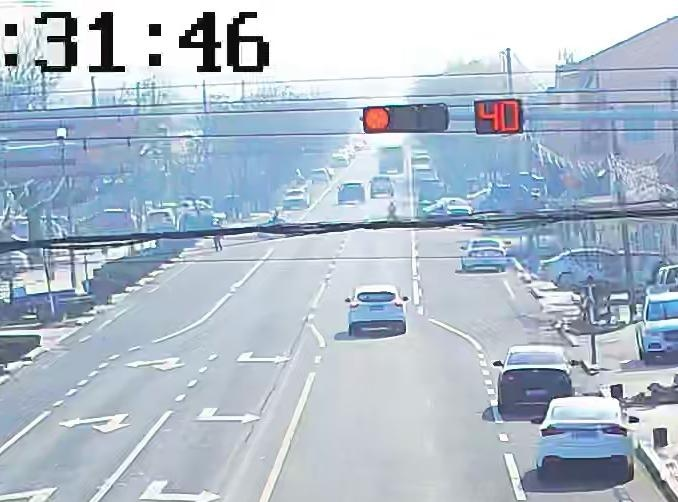red: (358, 105, 389, 136)
redtime: (477, 101, 520, 144)
